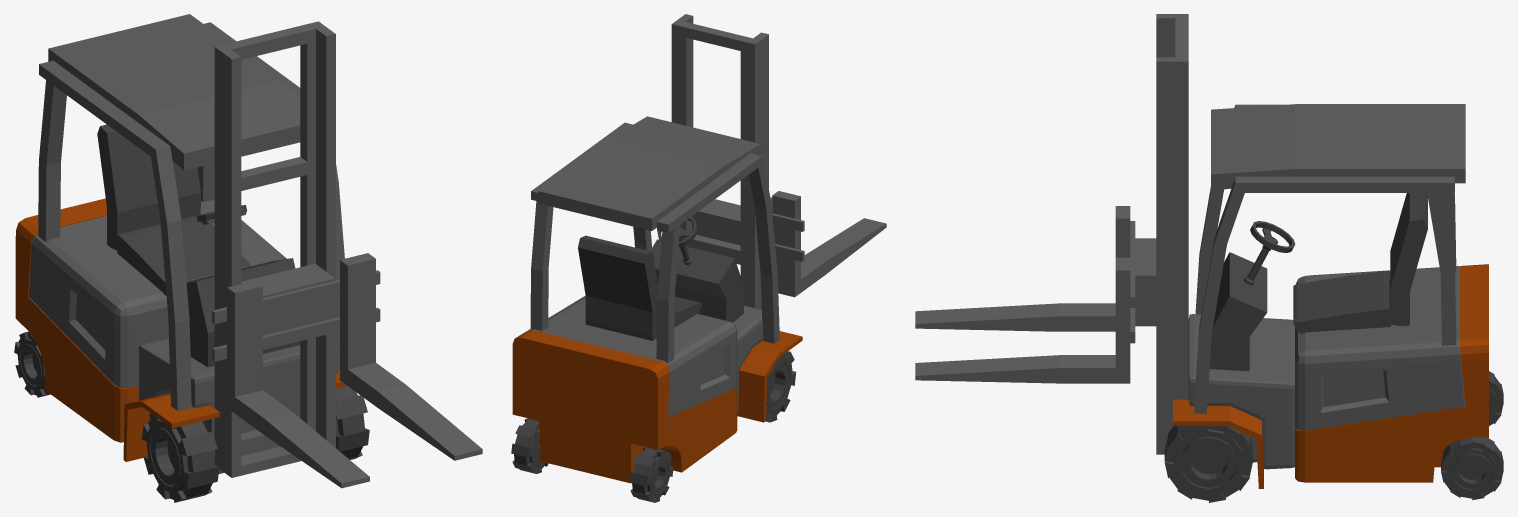
Rendered from Forklift_truck.fbx.
3 views of the same model, side by side, from view 1: azimuth 30°, elevation 25°; view 2: azimuth 150°, elevation 25°; view 3: azimuth 270°, elevation 25° (orthographic). The views are drawn at different scales.
Visible parts, largest first — view 1: Forklift_truck; view 2: Forklift_truck; view 3: Forklift_truck.
Boxes of the visible parts, x1,y1,x2,y2 form: Forklift_truck: (14,14,482,502); Forklift_truck: (511,14,886,502); Forklift_truck: (915,14,1503,502).
Size of the model in its own units: 136 by 285 by 358.
